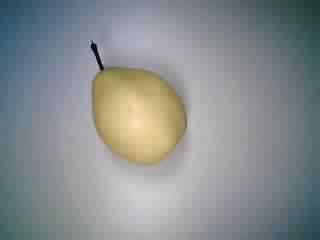pear: (73, 28, 193, 172)
